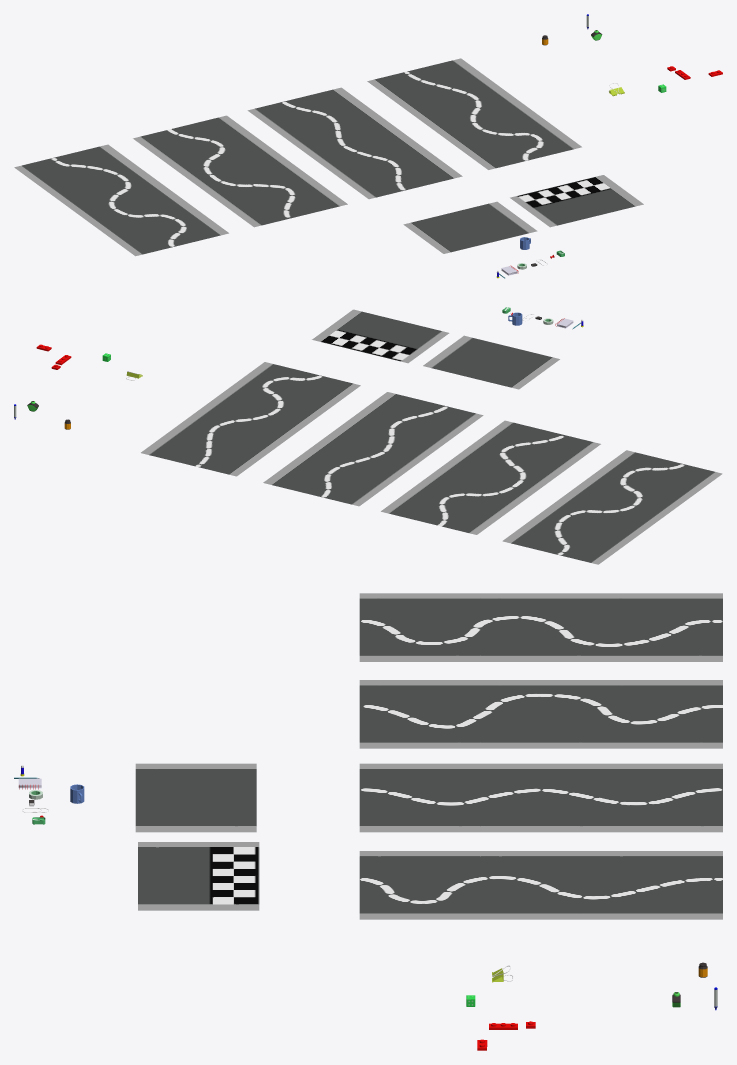
File: Pen Run Objects FBX 1.fbx
3 views of the same model, one above another, from view 1: azimuth 30°, elevation 25°; view 2: azimuth 150°, elevation 25°; view 3: azimuth 270°, elevation 25° (orthographic). The views are drawn at different scales.
Visible parts, largest first — view 1: Pen_Road01, Pen_Road03, Pen_Road04, Pen_Road02, Pen_Road_Tile, Pen_Finish_Road_Tile; view 2: Pen_Road04, Pen_Road02, Pen_Road01, Pen_Road03, Pen_Finish_Road_Tile, Pen_Road_Tile; view 3: Pen_Road04, Pen_Road01, Pen_Road02, Pen_Road03, Pen_Road_Tile, Pen_Finish_Road_Tile.
Boxes of the visible parts, x1,y1,x2,y2 form: Pen_Road01: (14,144,228,256); Pen_Road03: (133,115,347,227); Pen_Road04: (247,87,462,199); Pen_Road02: (367,58,581,169); Pen_Road_Tile: (403,201,537,253); Pen_Finish_Road_Tile: (510,175,643,227); Pen_Road04: (263,392,483,506); Pen_Road02: (141,362,360,476); Pen_Road01: (502,450,722,564); Pen_Road03: (381,420,600,534); Pen_Finish_Road_Tile: (312,309,449,363); Pen_Road_Tile: (423,335,559,389); Pen_Road04: (359,763,722,832); Pen_Road01: (359,593,722,661); Pen_Road02: (359,851,722,919); Pen_Road03: (359,680,722,748); Pen_Road_Tile: (135,763,256,832); Pen_Finish_Road_Tile: (138,842,259,910).
Bounding box in the file's own units: 66.61 × 1.53 × 43.6.
8 materials, 8 textured.
